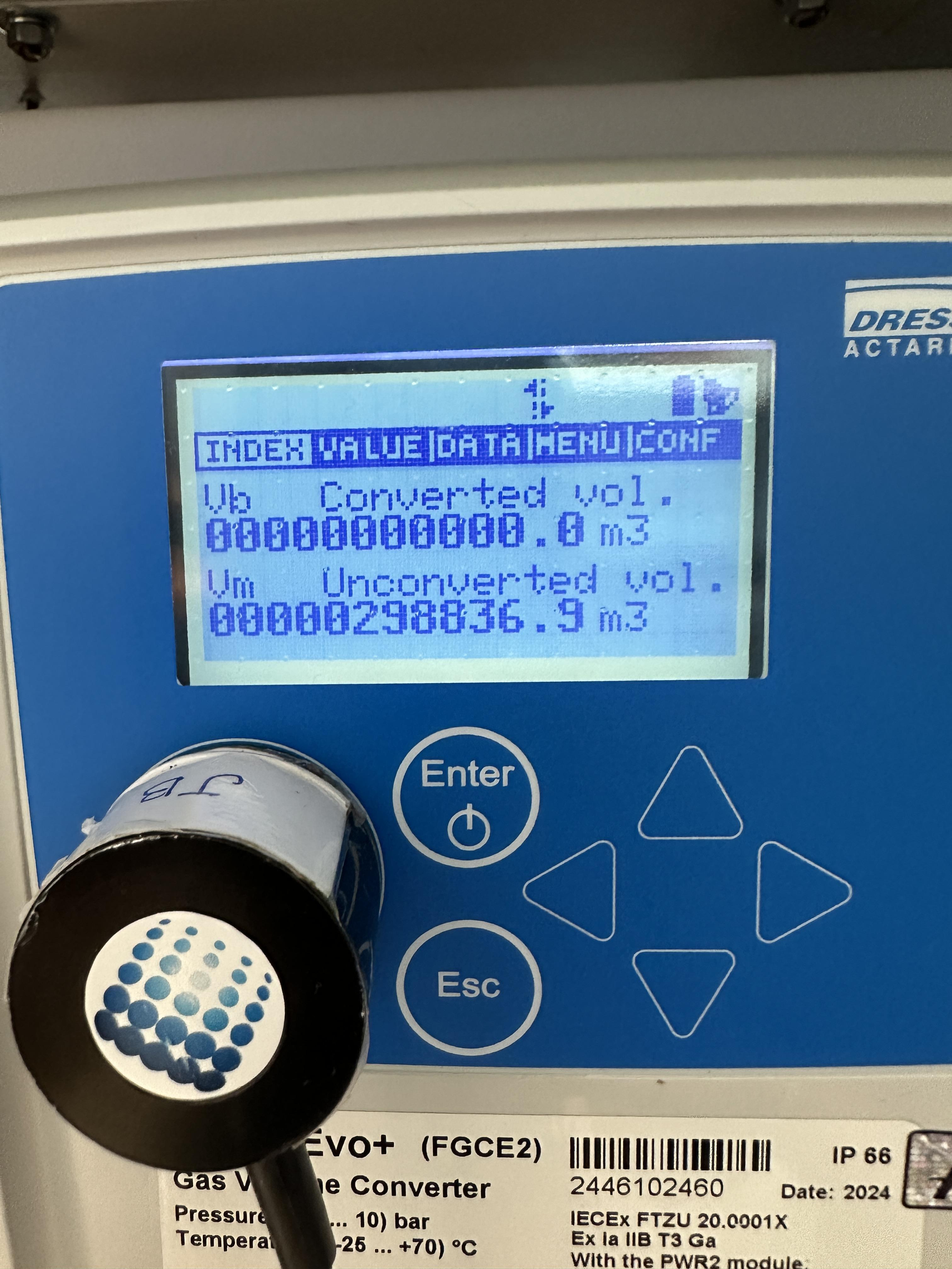digital_screen: (178, 364, 766, 693)
